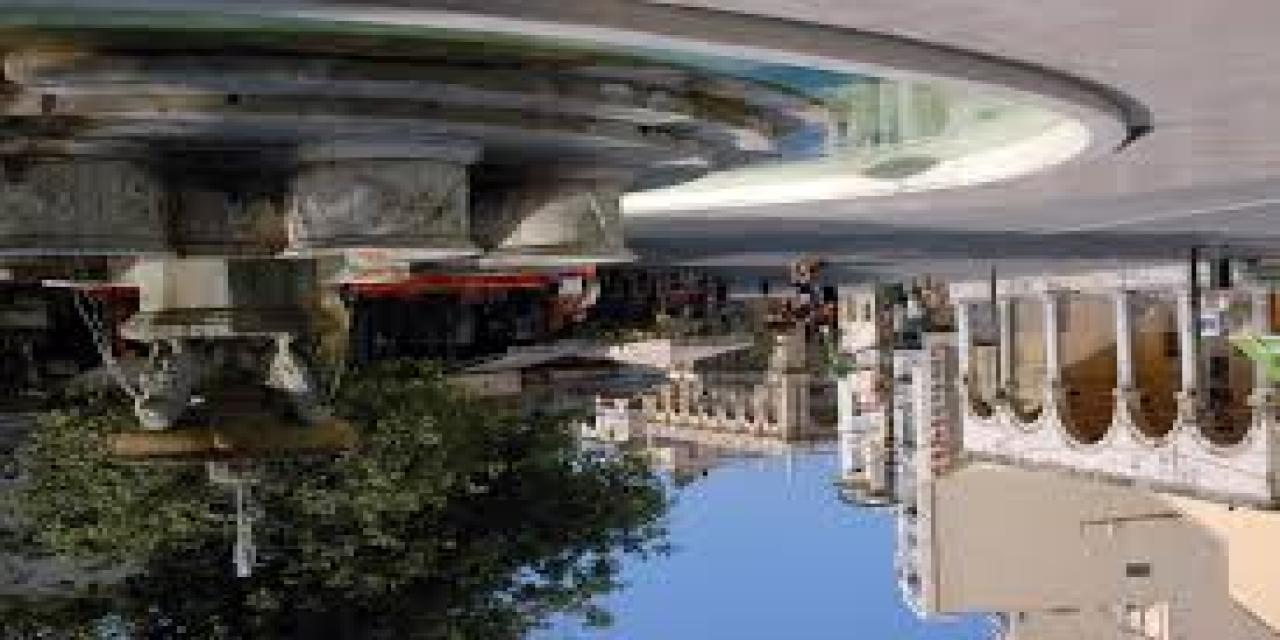Liontaria: (2, 131, 651, 544)
